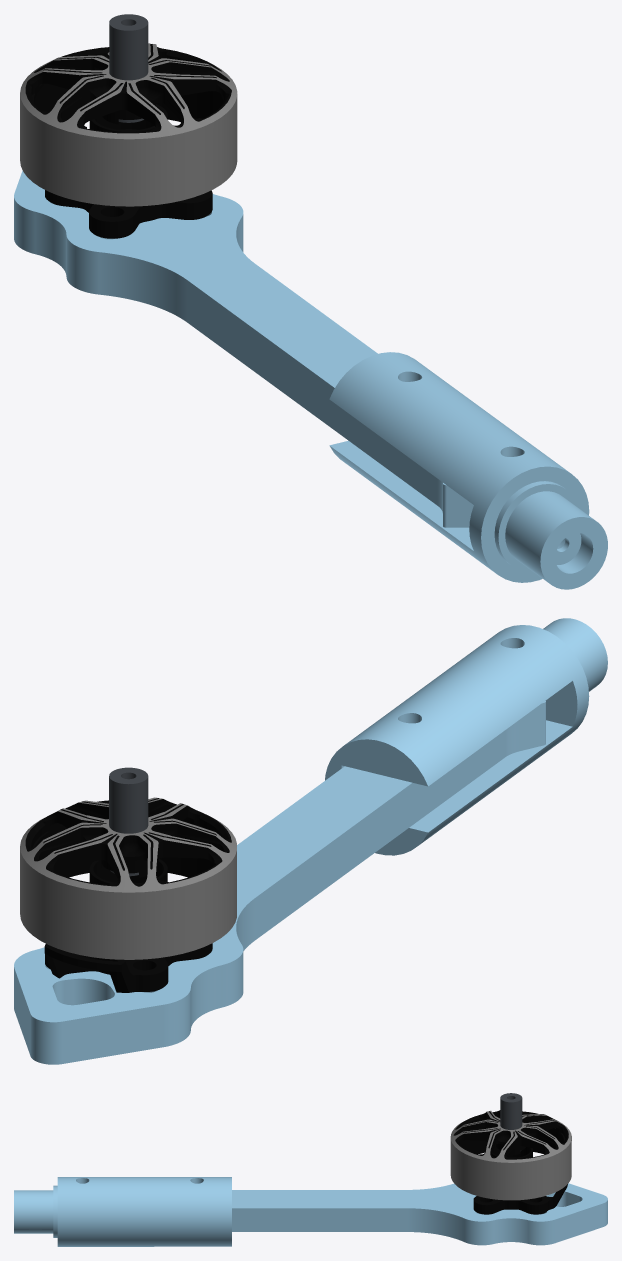
The model's file is motor_arm.dae.
3 renders of one model, top to bottom at view 1: azimuth 30°, elevation 25°; view 2: azimuth 150°, elevation 25°; view 3: azimuth 270°, elevation 25°, orthographic. The views are drawn at different scales.
Visible parts, largest first — view 1: Part 1 (×3), Bell, Base; view 2: Part 1 (×3), Bell, Base; view 3: Part 1 (×3), Bell, Base.
Part boxes in pixels (x1,y1,x2,y2): Part 1 (×3): (14, 14, 607, 589); Bell: (20, 43, 237, 206); Base: (45, 104, 212, 238); Part 1 (×3): (14, 618, 607, 1064); Bell: (20, 797, 236, 959); Base: (44, 859, 212, 992); Part 1 (×3): (14, 1093, 607, 1246); Bell: (450, 1110, 571, 1200); Base: (473, 1144, 567, 1214).
Size of the model in its own units: 0.0278 by 0.1362 by 0.0369.
